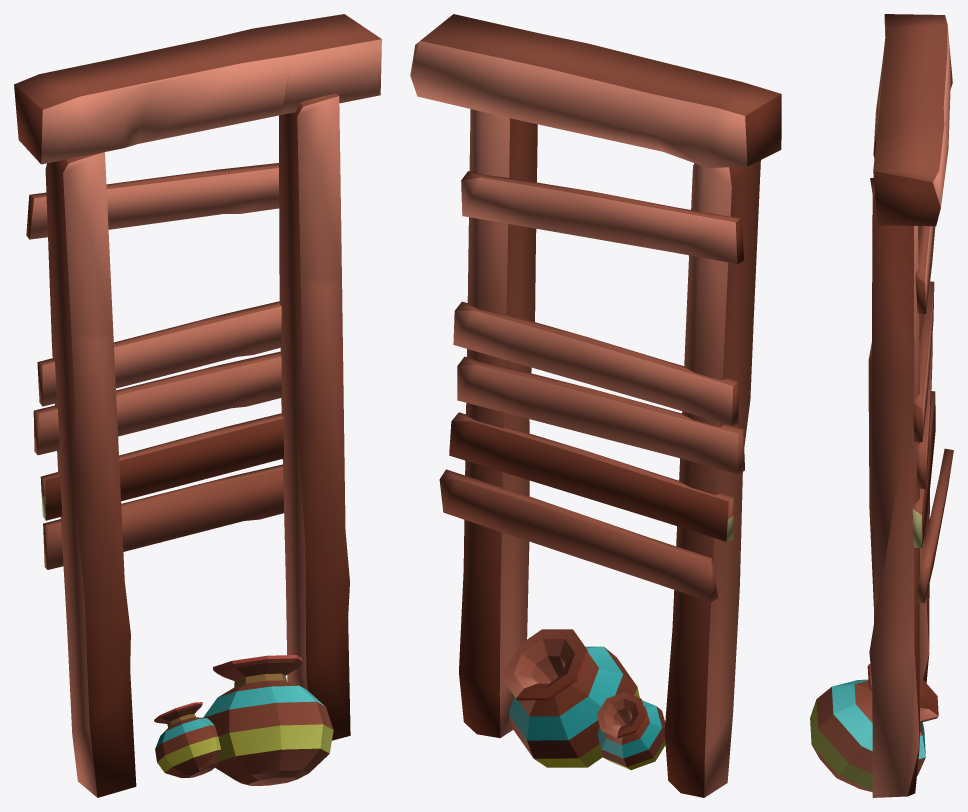
The model's file is Tapia12.Prop.12.fbx.
The picture shows the model from 3 angles, left to right: view 1: azimuth 30°, elevation 25°; view 2: azimuth 150°, elevation 25°; view 3: azimuth 270°, elevation 25°; orthographic projection. The views are drawn at different scales.
Visible parts, largest first — view 1: Vasija.002; view 2: Vasija.002; view 3: Vasija.002.
Part boxes in pixels (<box>): Vasija.002: <box>14,14,381,797</box>; Vasija.002: <box>410,14,781,797</box>; Vasija.002: <box>810,14,953,797</box>.
Bounding box in the file's own units: 200 × 407 × 78.65.
